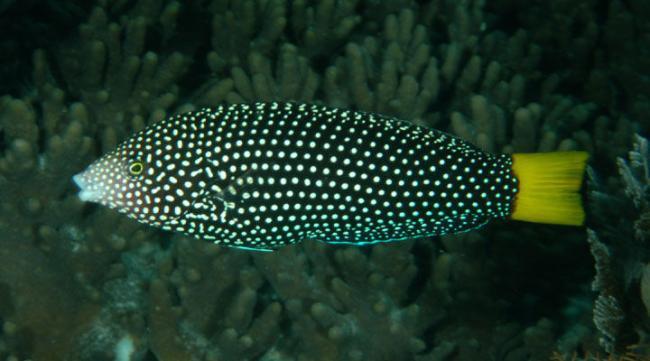fish: (74, 105, 590, 251)
